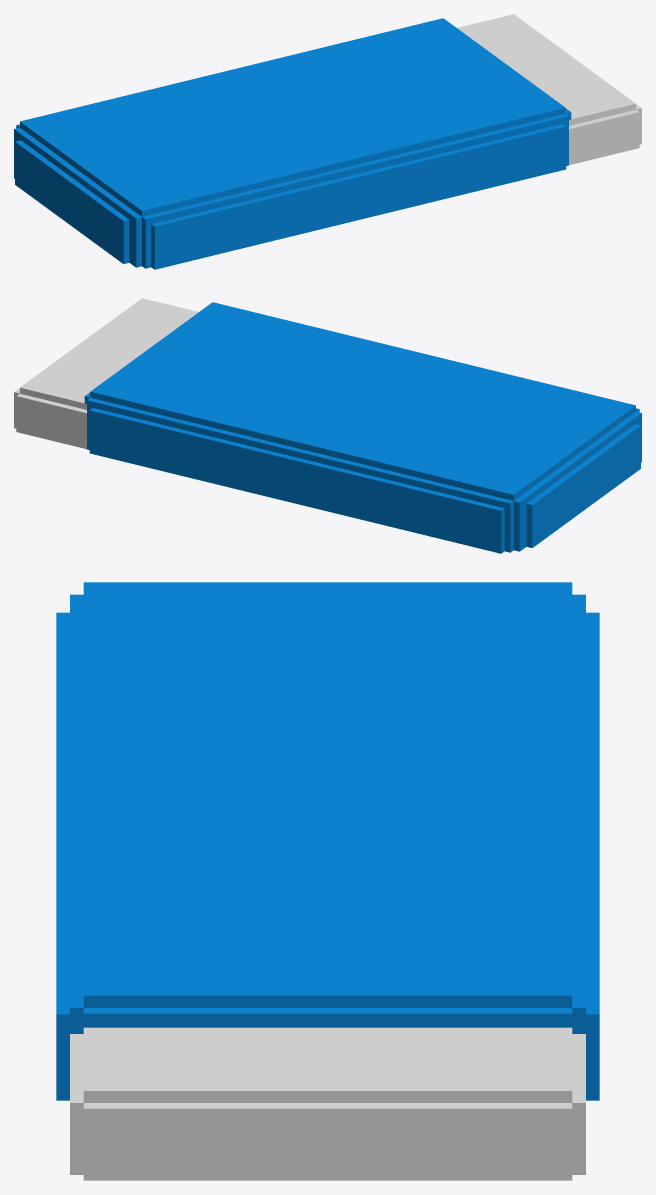
File: bed.fbx
The picture shows the model from 3 angles, top to bottom: view 1: azimuth 30°, elevation 25°; view 2: azimuth 150°, elevation 25°; view 3: azimuth 270°, elevation 25°; orthographic projection. The views are drawn at different scales.
Parts seen in each view (by area): view 1: Cube; view 2: Cube; view 3: Cube.
Part boxes in pixels (x1,y1,x2,y2): Cube: (14, 14, 641, 269); Cube: (14, 298, 641, 553); Cube: (56, 582, 599, 1180).
Bounding box in the file's own units: 544 × 56.25 × 250.
